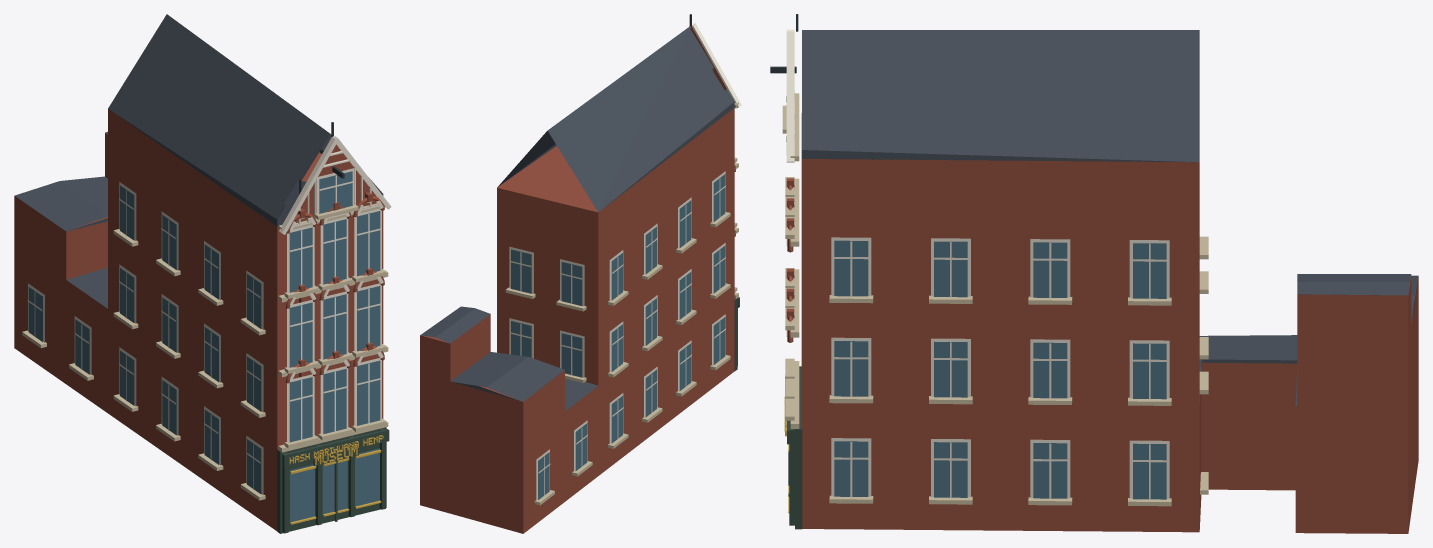
The model's file is hash-marihuana-hemp-museum.glb.
3 views of the same model, side by side, from view 1: azimuth 30°, elevation 25°; view 2: azimuth 150°, elevation 25°; view 3: azimuth 270°, elevation 25° (orthographic). The views are drawn at different scales.
Parts seen in each view (by area): view 1: hash-marihuana-hemp-museum; view 2: hash-marihuana-hemp-museum; view 3: hash-marihuana-hemp-museum.
Part boxes in pixels (box(x1,y1,x2,y2)): hash-marihuana-hemp-museum: box(14, 14, 391, 533); hash-marihuana-hemp-museum: box(420, 14, 741, 533); hash-marihuana-hemp-museum: box(770, 14, 1418, 533).
Size of the model in its own units: 6.04 by 17.34 by 21.08.
